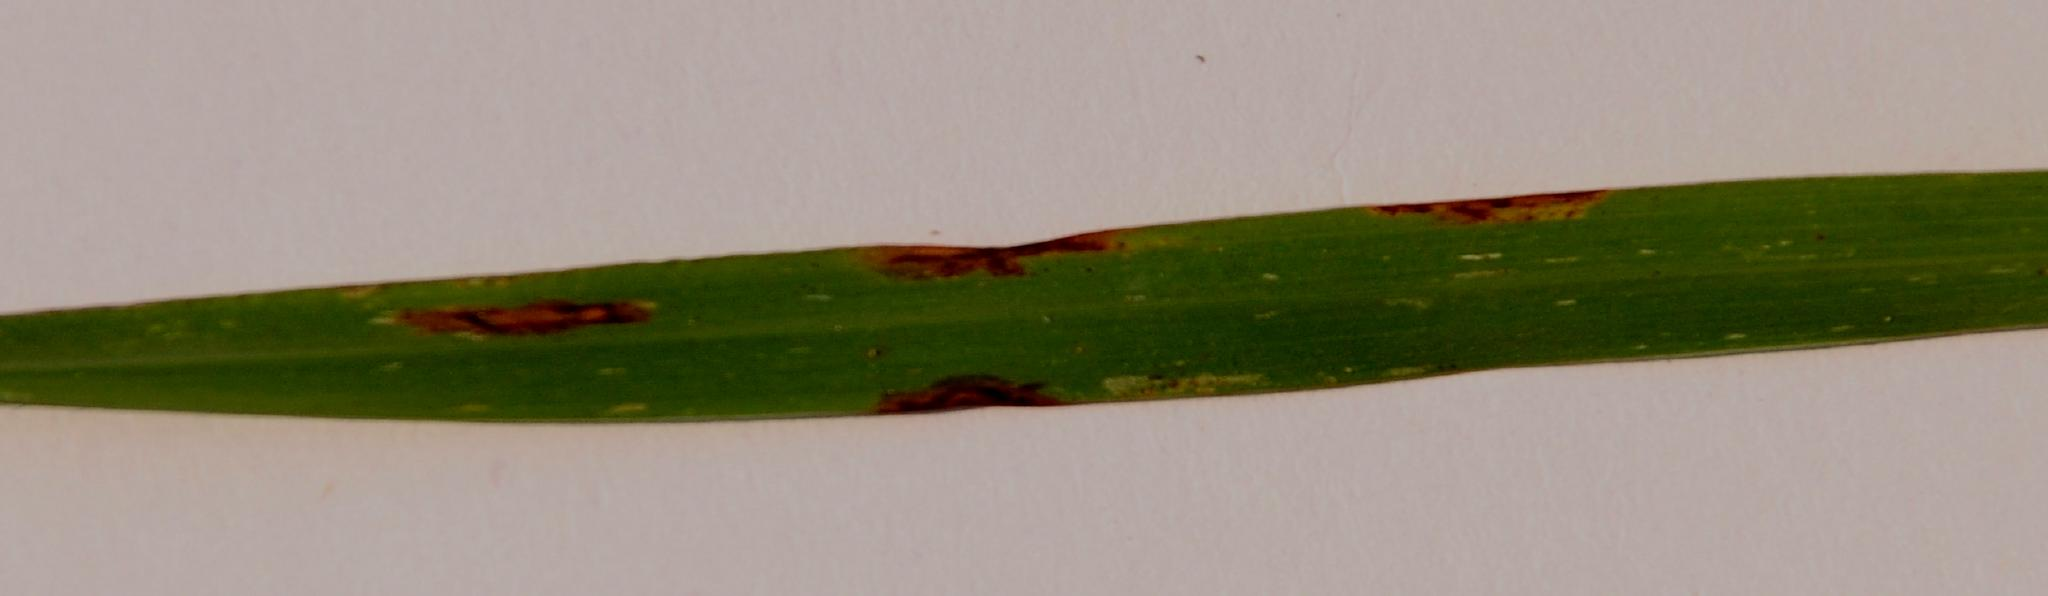0 BrownSpot: (831, 199, 1170, 280), (1353, 158, 1661, 239), (388, 271, 695, 346), (886, 353, 1079, 430)
